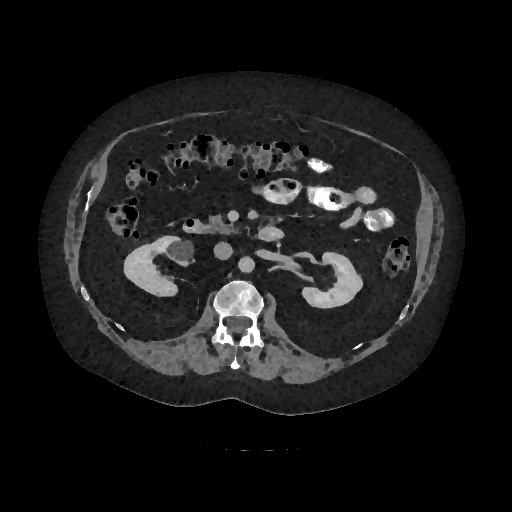Lesion: (162, 236, 196, 265)
